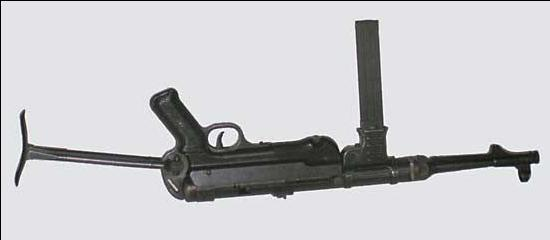gun: (13, 17, 539, 207)
